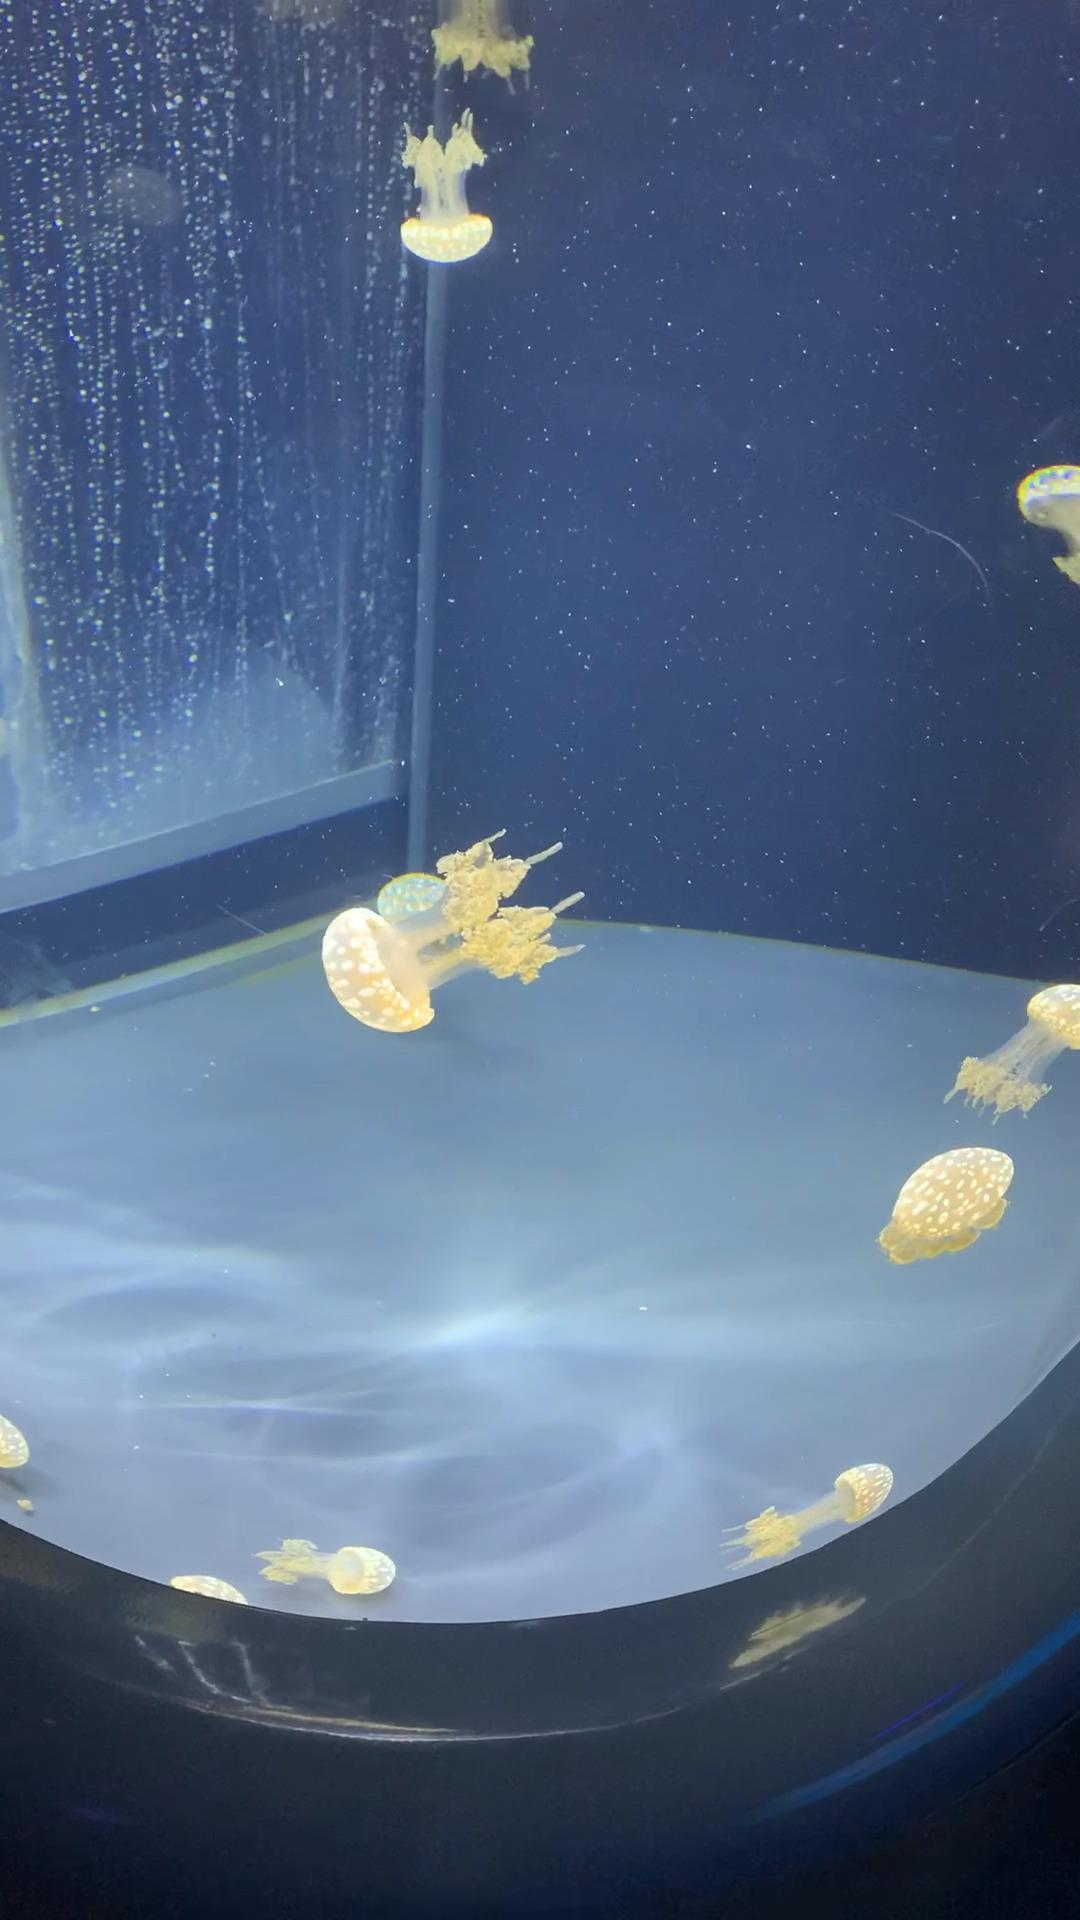jellyfish: (717, 1456, 905, 1571), (311, 905, 436, 1031), (880, 1142, 1019, 1255), (396, 212, 496, 266), (1014, 458, 1080, 539), (320, 1534, 401, 1598), (835, 1453, 899, 1516), (1029, 982, 1080, 1054), (0, 1410, 38, 1481)
